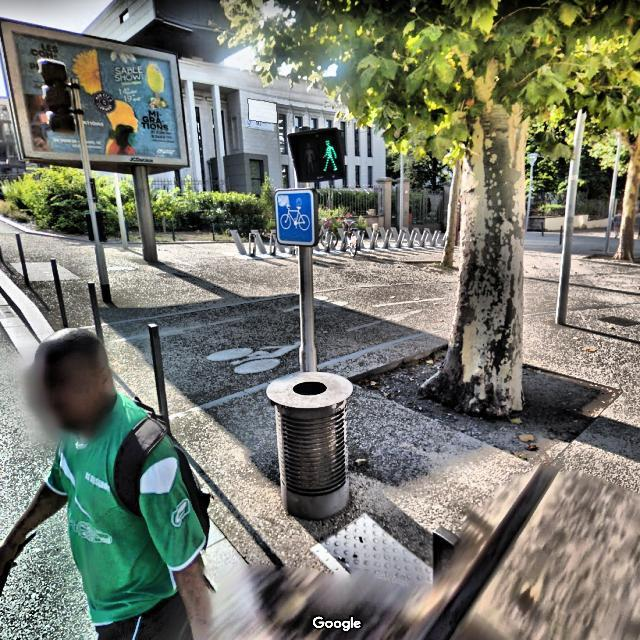green_light: (318, 136, 339, 172)
